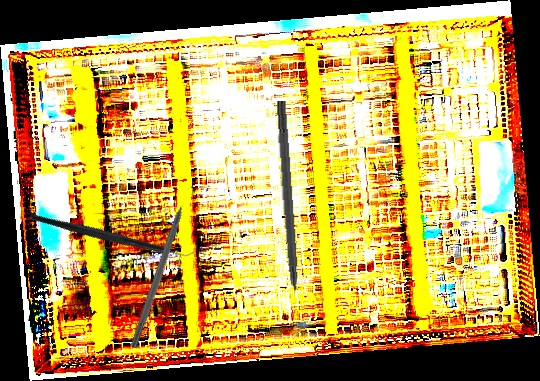Chopper: (27, 159, 201, 309)
Hook Surgical: (129, 186, 194, 350), (273, 100, 302, 315)
